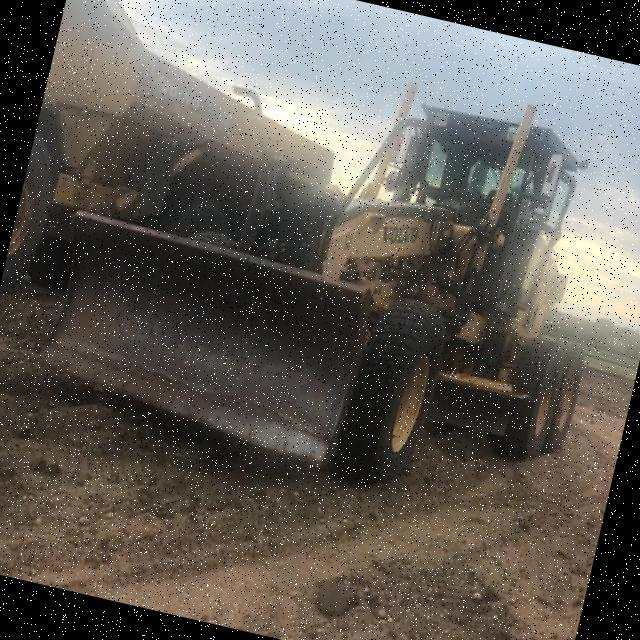Grader: (31, 17, 640, 525)
